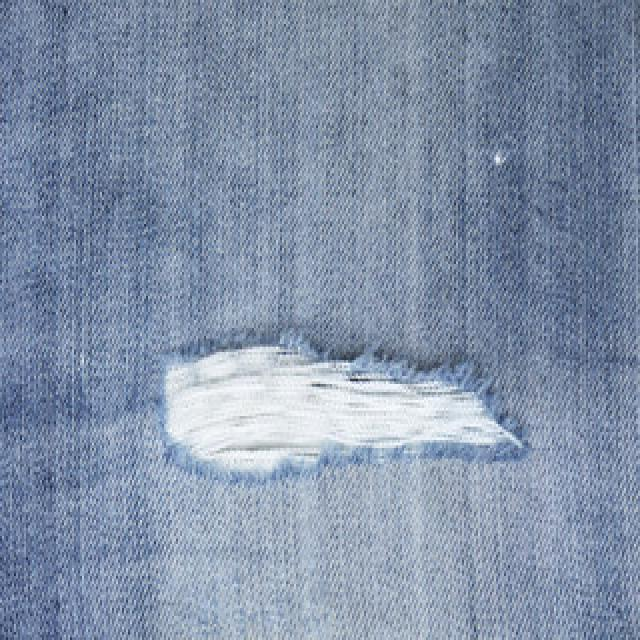Hole: (160, 334, 529, 482)
